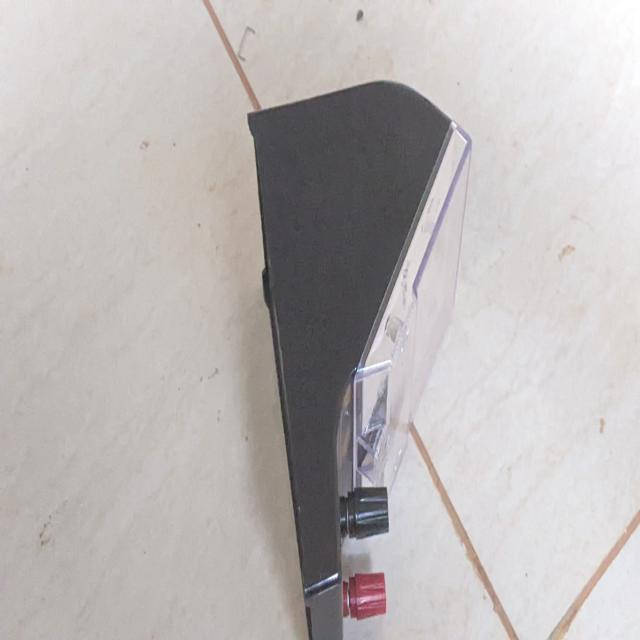Ammeter Analog: (242, 68, 477, 640)
